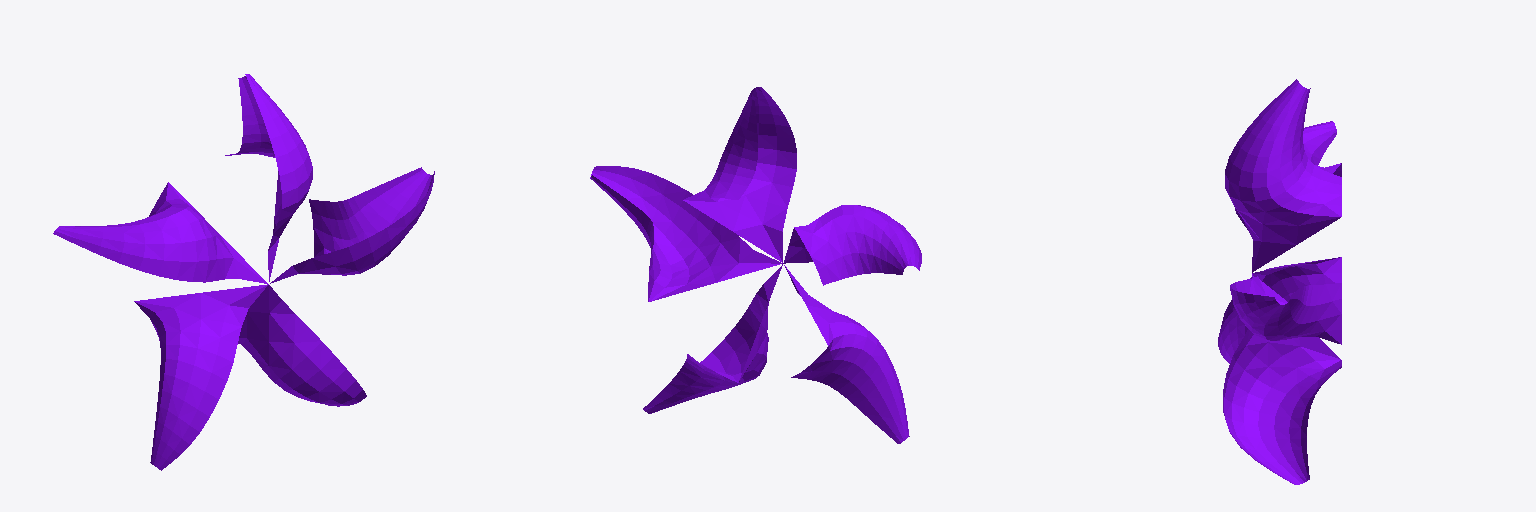
The model's file is BuffoonHeadPurple.obj.
The picture shows the model from 3 angles: view 1: azimuth 30°, elevation 25°; view 2: azimuth 150°, elevation 25°; view 3: azimuth 270°, elevation 25°; orthographic projection.
Visible parts, largest first — view 1: BuffoonHead; view 2: BuffoonHead; view 3: BuffoonHead.
Boxes of the visible parts, box(x1,y1,x2,y2) form: BuffoonHead: box(53, 74, 434, 470); BuffoonHead: box(590, 87, 921, 443); BuffoonHead: box(1218, 79, 1341, 484).
Bounding box in the file's own units: 0.2823 × 0.2685 × 0.0853.